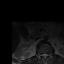CCS_normal: (43, 52, 46, 61)
LFS_stenosis: (47, 52, 49, 57)
LLS_normal: (46, 52, 48, 58)
RFS_normal: (39, 52, 41, 58)
RLS_normal: (41, 52, 43, 58)
